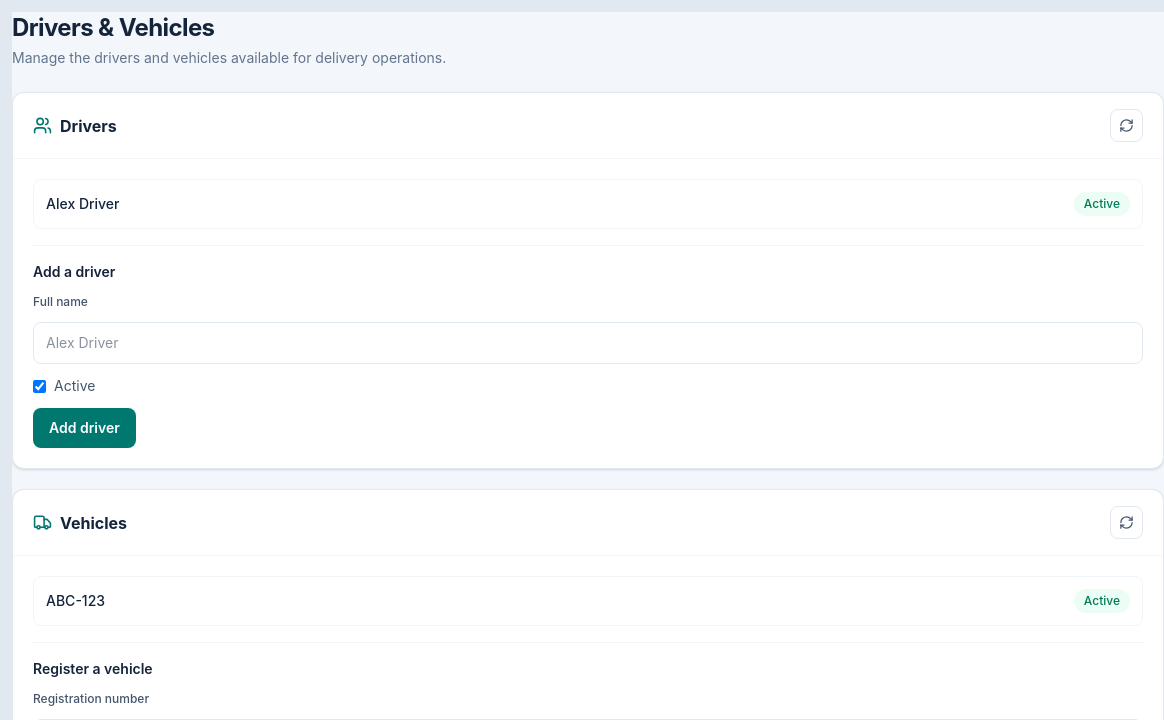
Test case: FleetManagementPage › shows an API error without clearing the driver form
Type "Test Driver" into the field labelled "Full name".
click(588, 343); type("Test Driver")  # box [33, 322, 1143, 364]
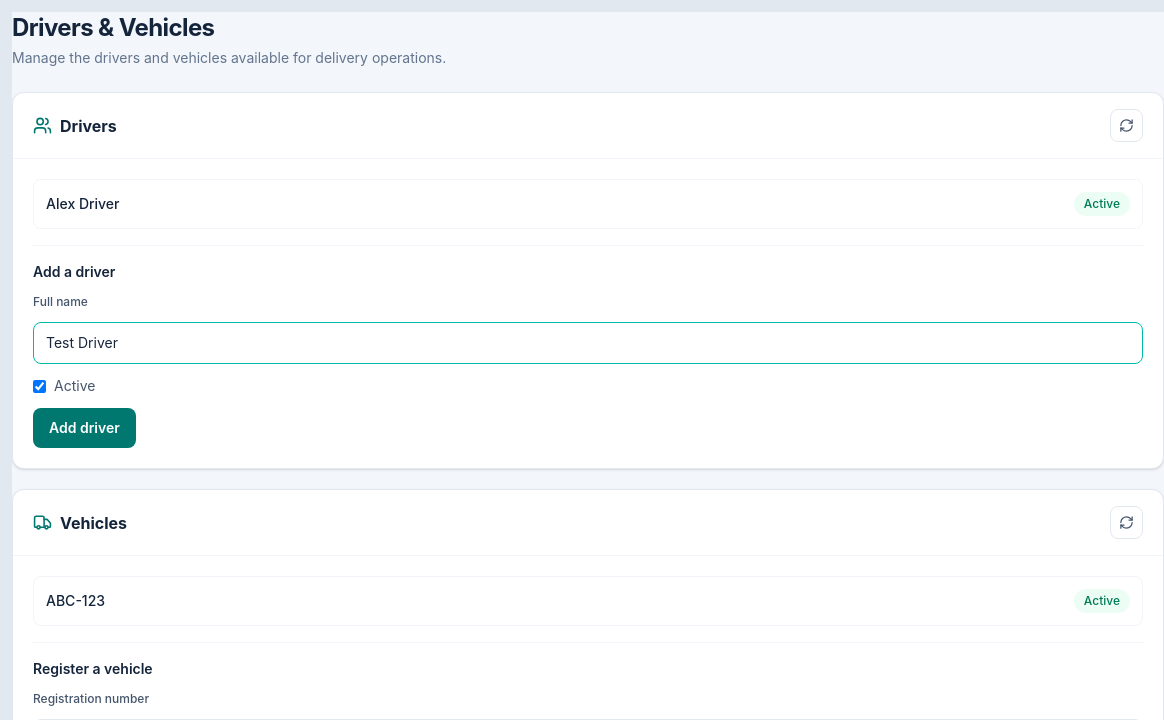
Click the button "Add driver".
click(84, 428)  # box [33, 408, 136, 448]
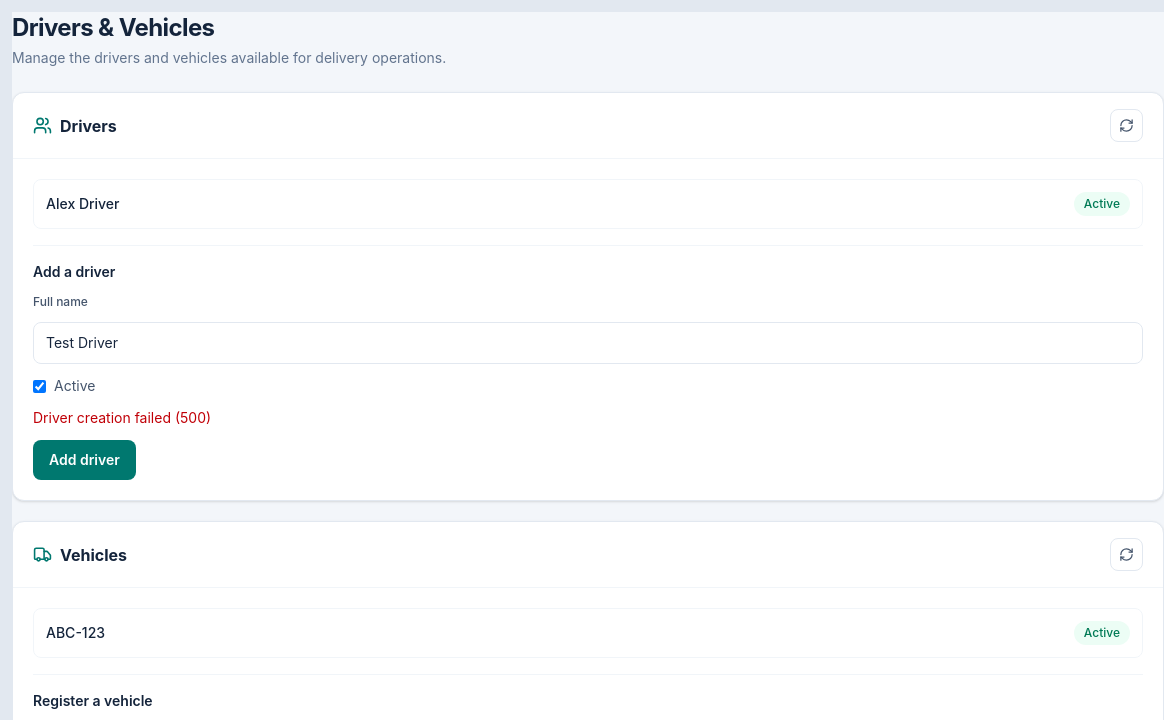
expect the text "Driver creation failed (500)" is shown: met, box [33, 409, 211, 426]
